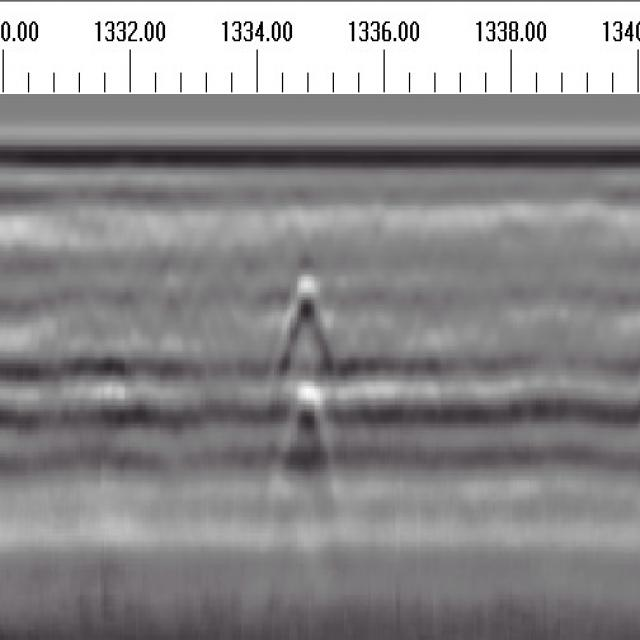crack: (275, 217, 334, 537)
